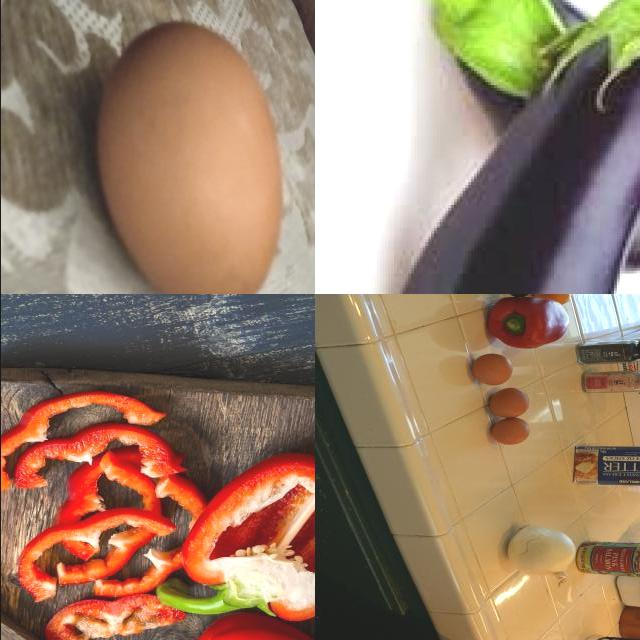bell_pepper: (485, 295, 570, 356), (577, 337, 640, 372)
egg: (91, 8, 288, 295), (470, 354, 516, 387), (485, 389, 532, 420), (487, 419, 532, 447)
eggplant: (391, 1, 640, 295), (429, 1, 640, 268)
onion: (503, 522, 579, 586)
